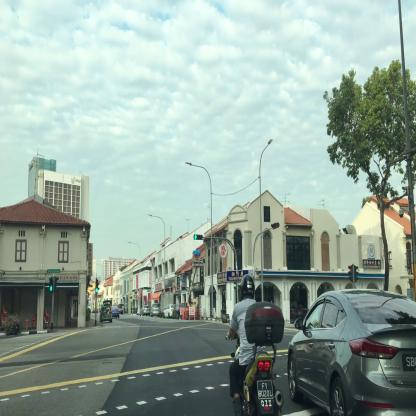green_traffic_light: (194, 234, 202, 240), (95, 280, 98, 292)
